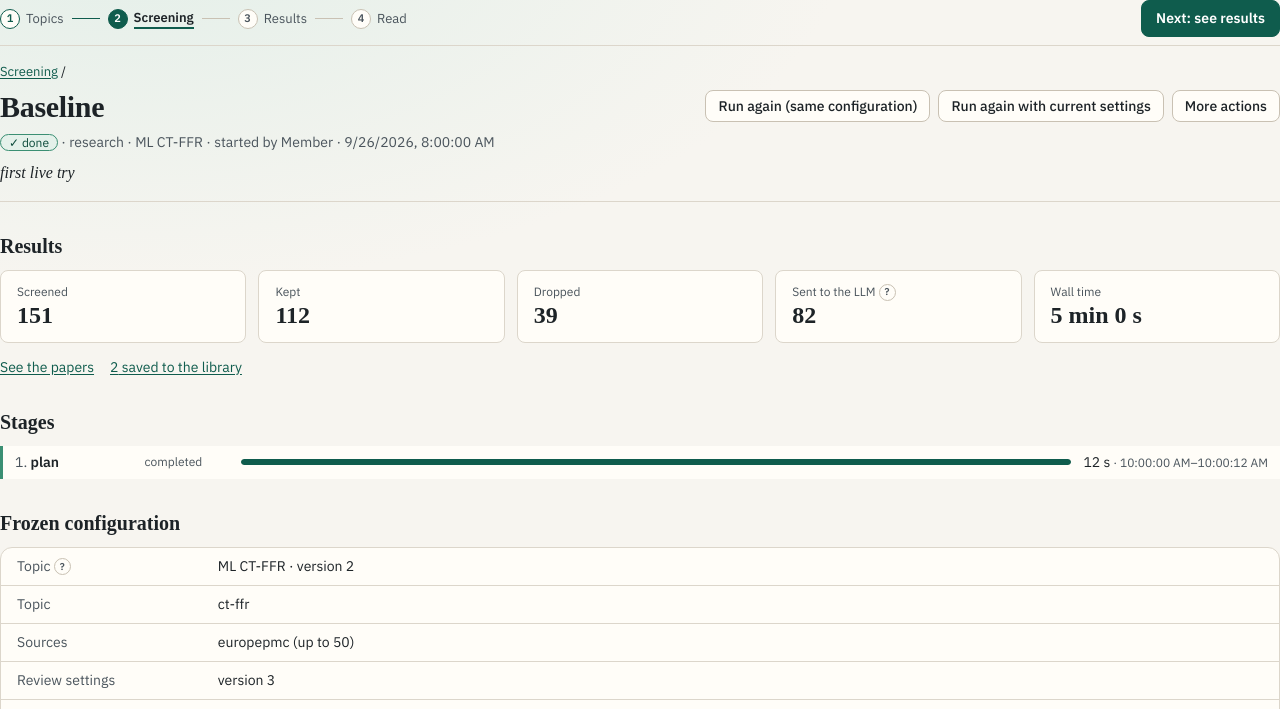
run detail › deleting from the page goes back to the list
Click the button "More actions" at x=1226, y=106, box [1172,90,1279,122]
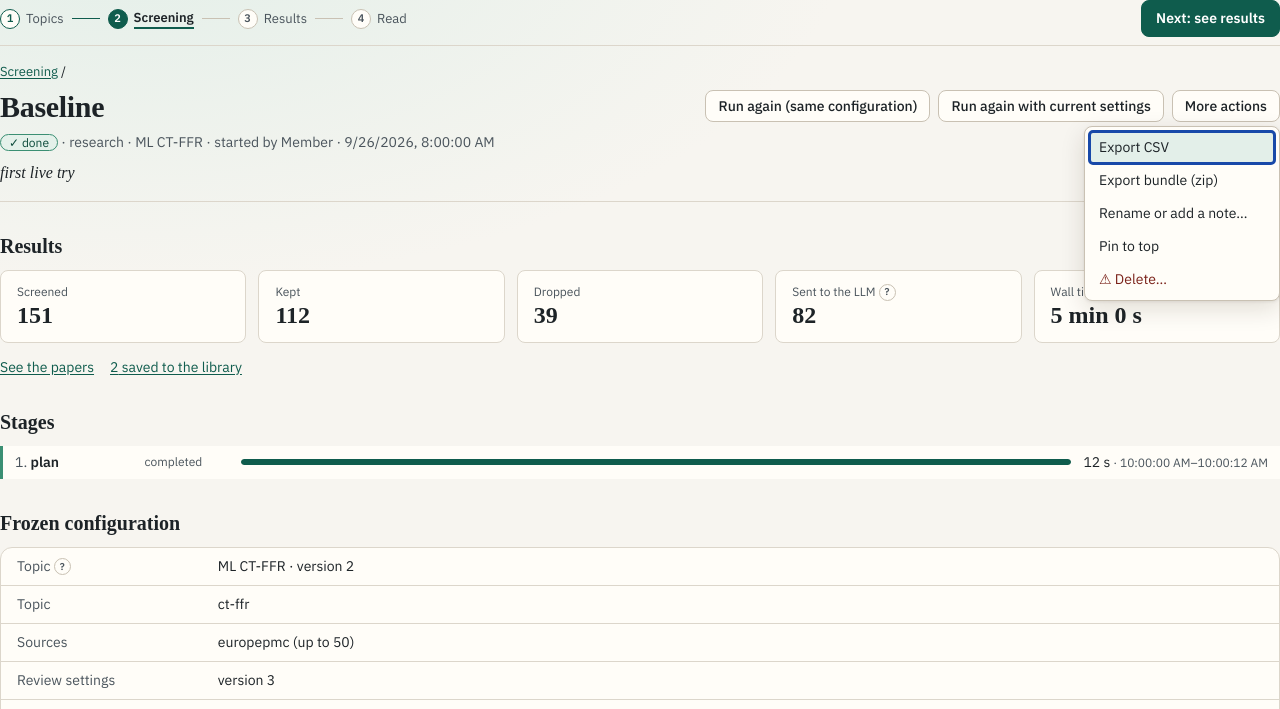
Click the menu item "Delete…" at x=1182, y=279, box [1089,263,1275,296]
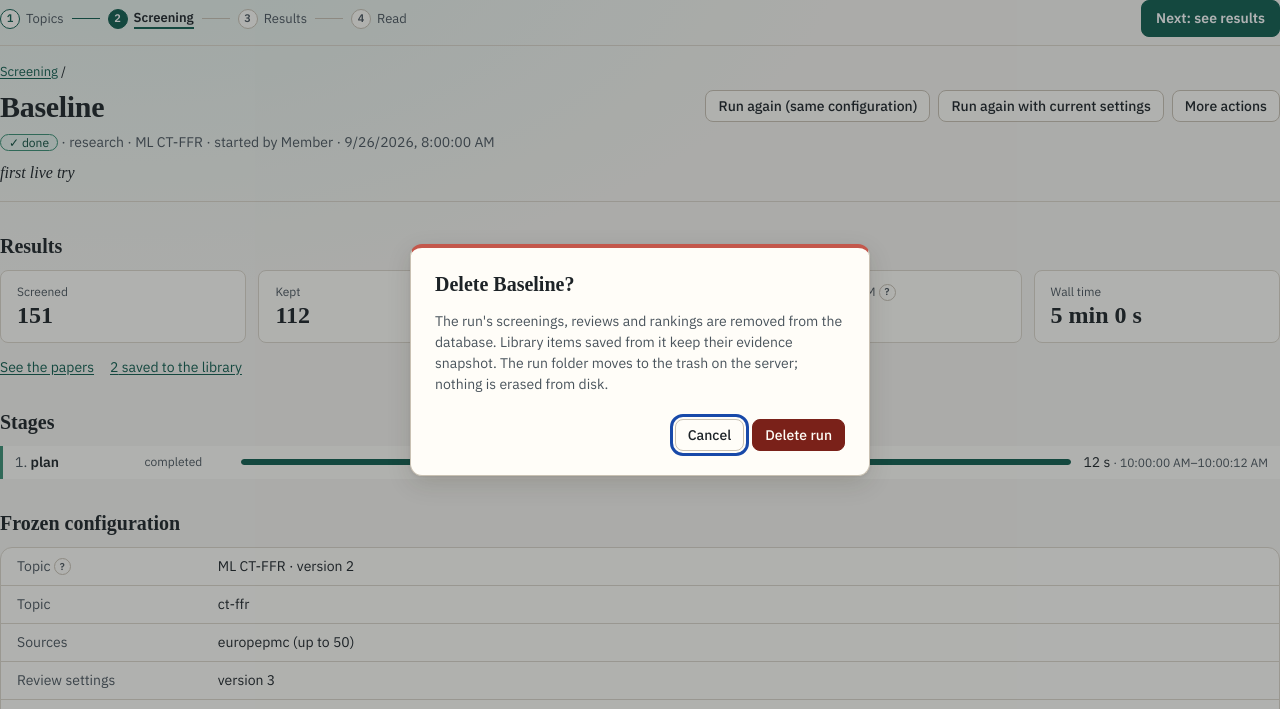
Click the button "Delete run" at x=799, y=435, box [752,419,845,451]
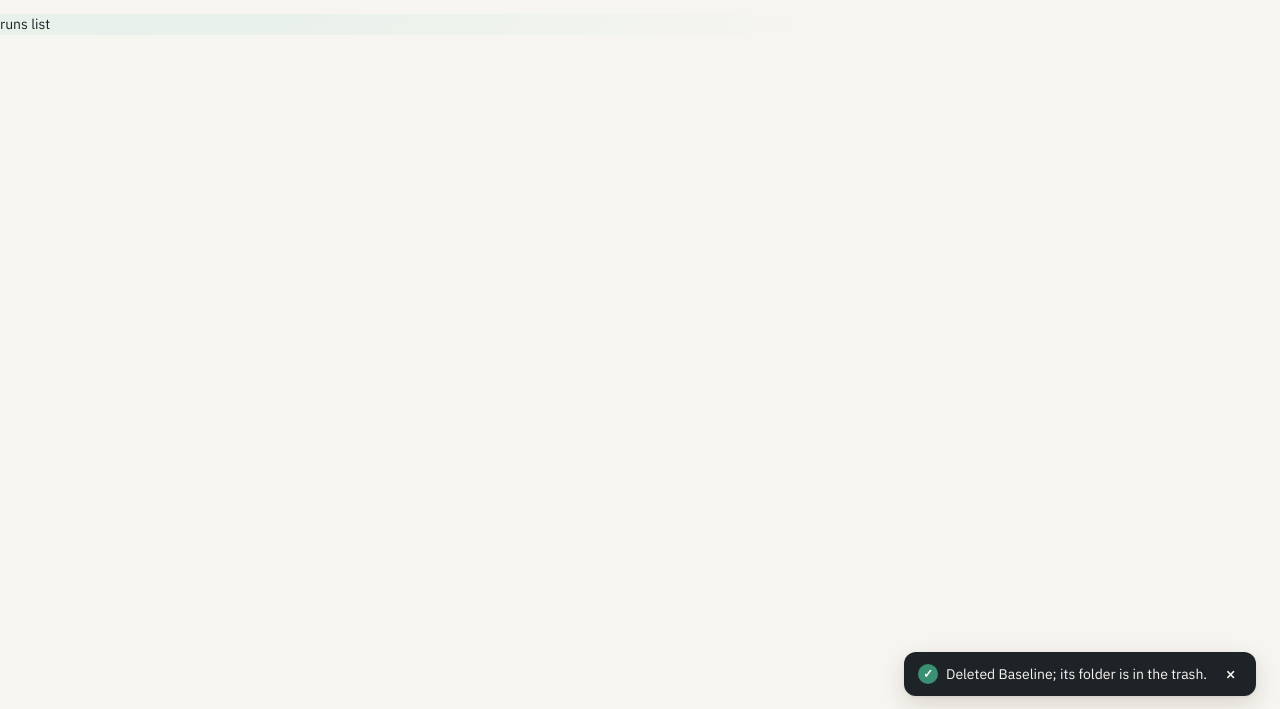
Now the text "runs list" is shown, box [0,15,50,33]
